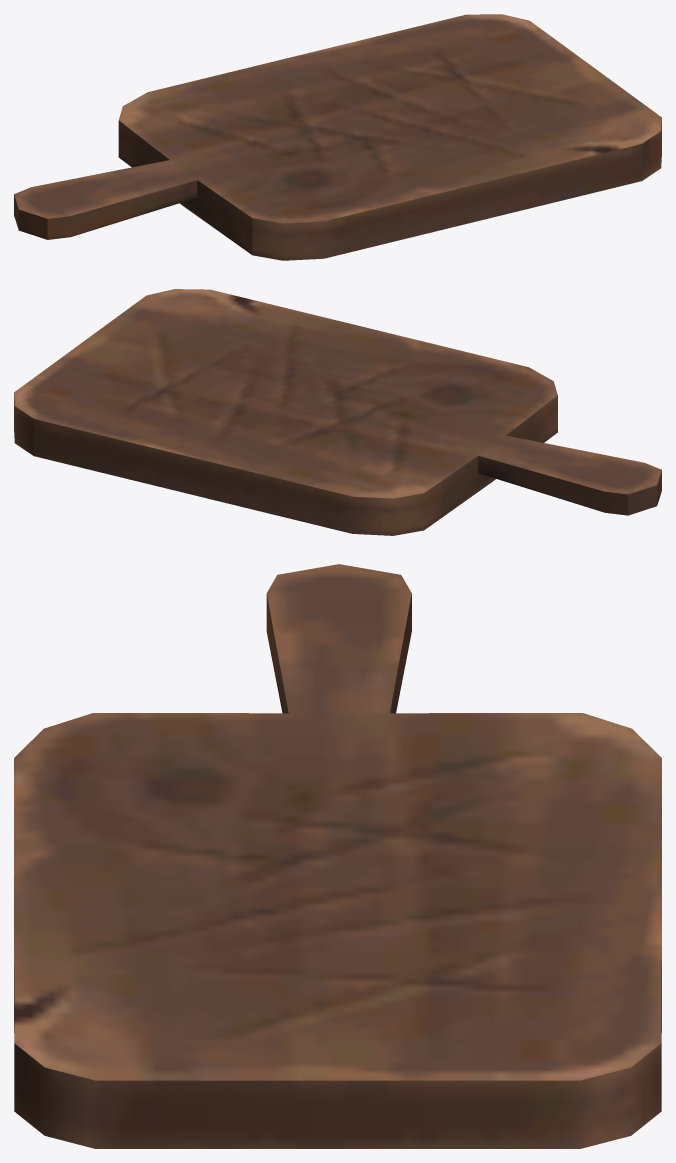
File: tablaCortar.fbx
3 renders of one model, top to bottom at view 1: azimuth 30°, elevation 25°; view 2: azimuth 150°, elevation 25°; view 3: azimuth 270°, elevation 25°, orthographic. The views are drawn at different scales.
Parts seen in each view (by area): view 1: s4studio_mesh_1; view 2: s4studio_mesh_1; view 3: s4studio_mesh_1.
Boxes of the visible parts, <box> form: s4studio_mesh_1: <box>14,14,661,260</box>; s4studio_mesh_1: <box>14,289,661,535</box>; s4studio_mesh_1: <box>14,564,661,1148</box>.
Bounding box in the file's own units: 49.01 × 3.02 × 25.99.
1 material, 1 textured.
